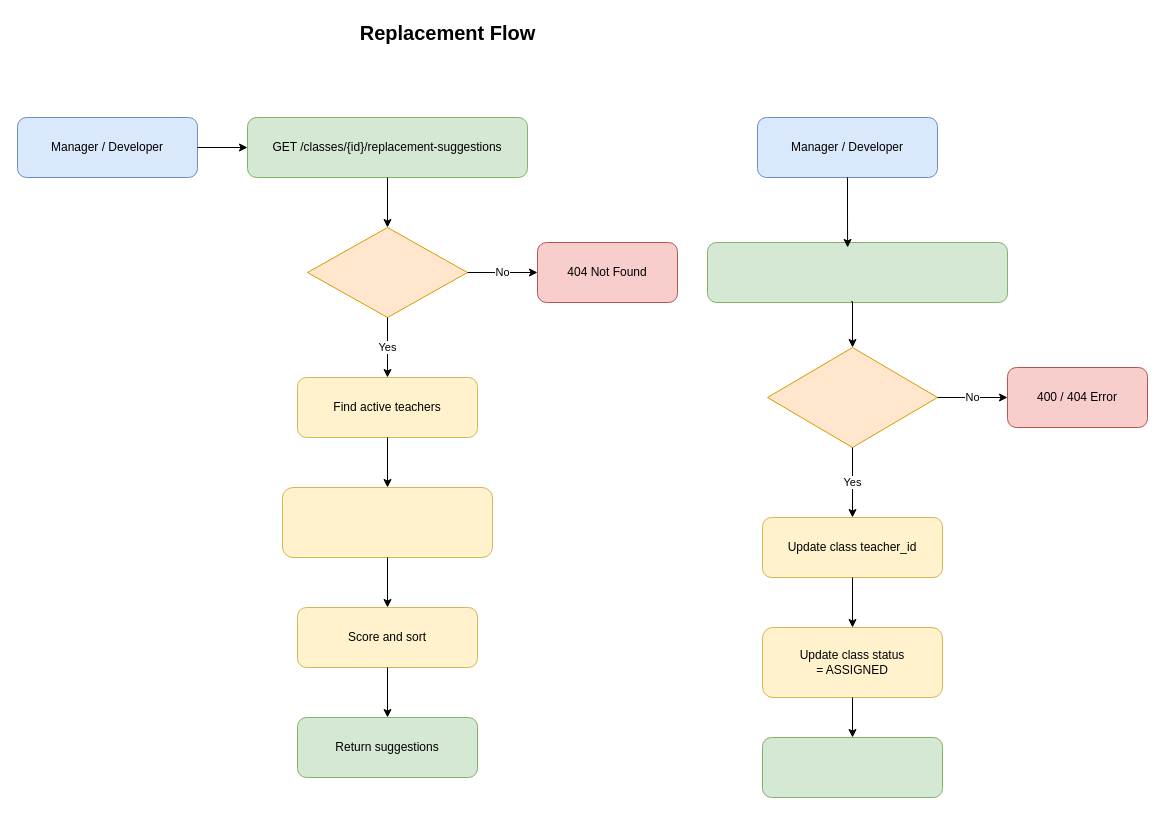
The diagram is 1165 pixels wide and 815 high, and some of its shapes have lost their labels. The shapes that lost their labels are listed below. From the top down, each one's centre as x and y in pixels, then its label:
the point at 387,272: Class exists?
the point at 857,272: PUT /classes/{id}/assign-replacement
the point at 852,397: Replacement teacher valid?
the point at 387,522: Remove schedule conflicts and over max slots/day
the point at 852,767: Return success
